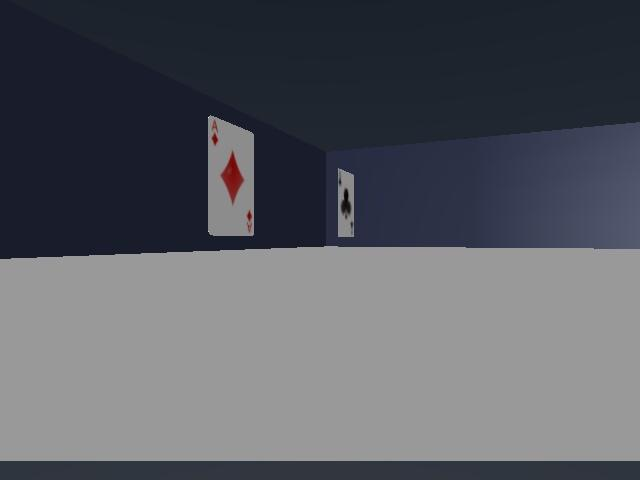club: (338, 169, 353, 236)
diamond: (208, 116, 254, 235)
